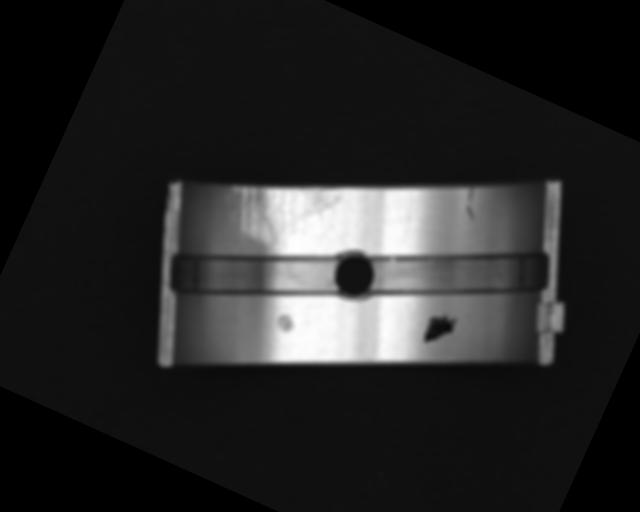blot: (419, 305, 460, 351)
bruise: (274, 310, 298, 335)
gap: (361, 194, 557, 359), (159, 197, 350, 354)
hole: (325, 242, 387, 307)
nick: (394, 197, 421, 237), (458, 184, 487, 220)
scratch: (213, 145, 348, 267)
